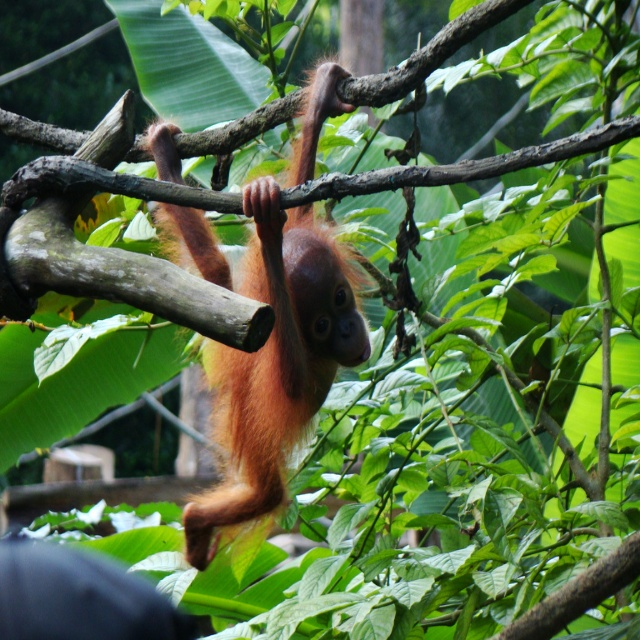Monkey: (144, 44, 382, 571)
